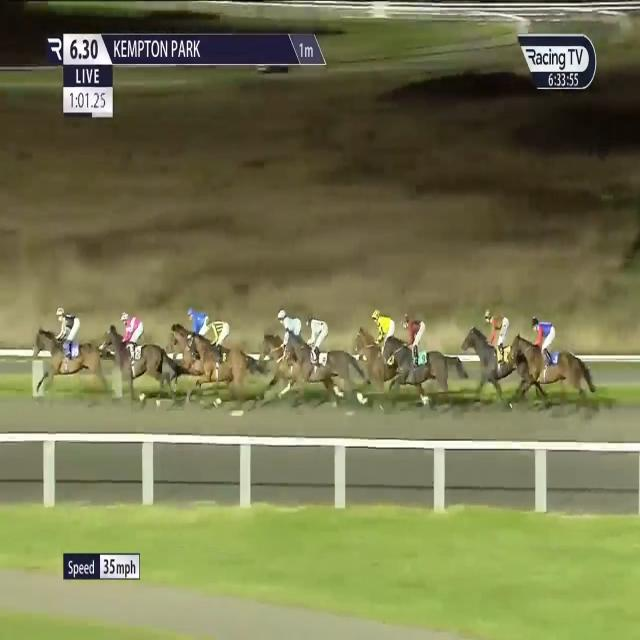horses-racing: (512, 313, 590, 414), (28, 305, 112, 398), (463, 304, 536, 409), (190, 314, 253, 415), (290, 310, 356, 403), (99, 310, 170, 396), (389, 316, 453, 404), (350, 306, 410, 398), (257, 303, 304, 407), (168, 304, 219, 391)
